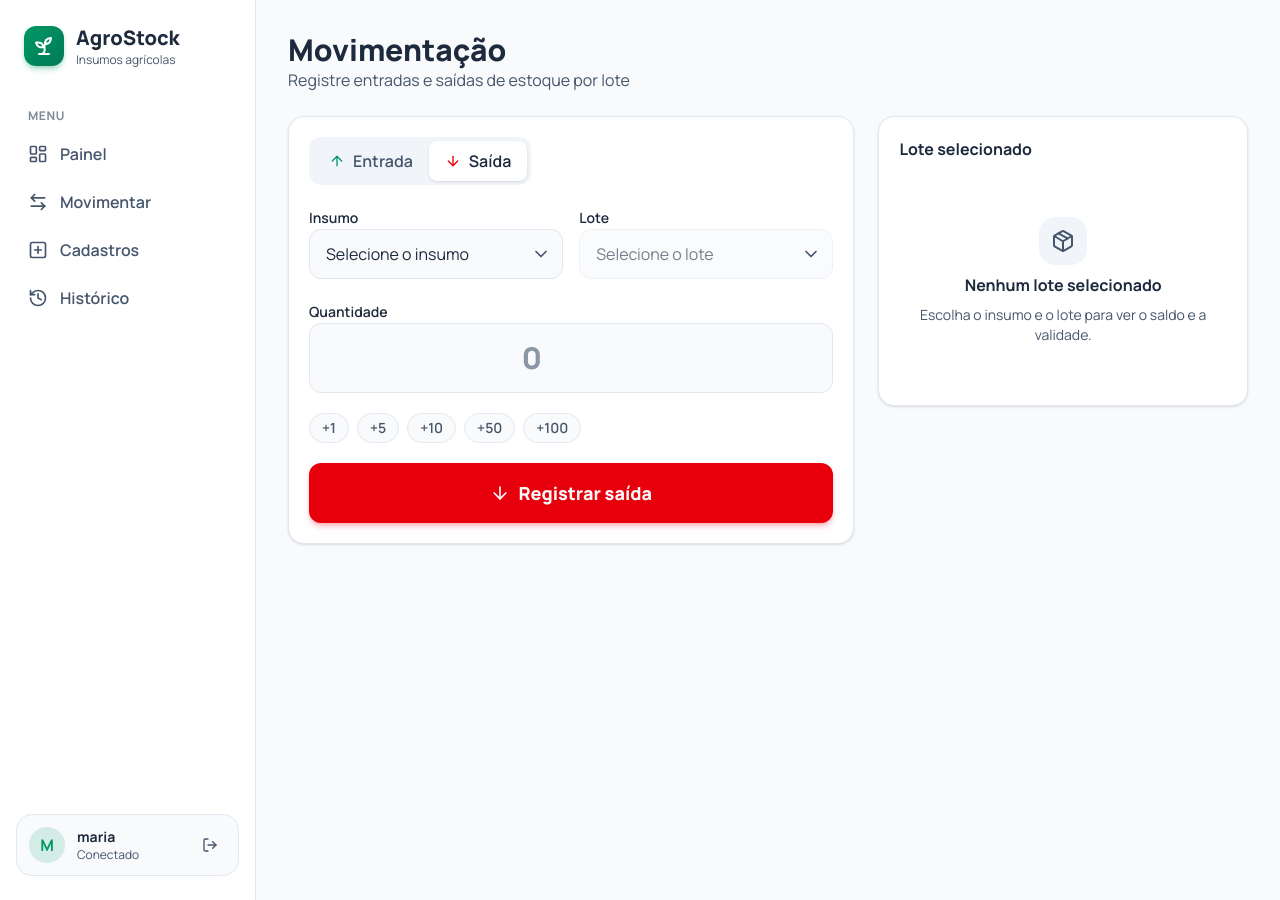
Test case: Movimentação › F22 mostra a prévia do saldo e bloqueia saída maior que o saldo
Select "Semente Milho" in the dropdown labelled "Insumo" at (436, 254), box [309,229,563,279]
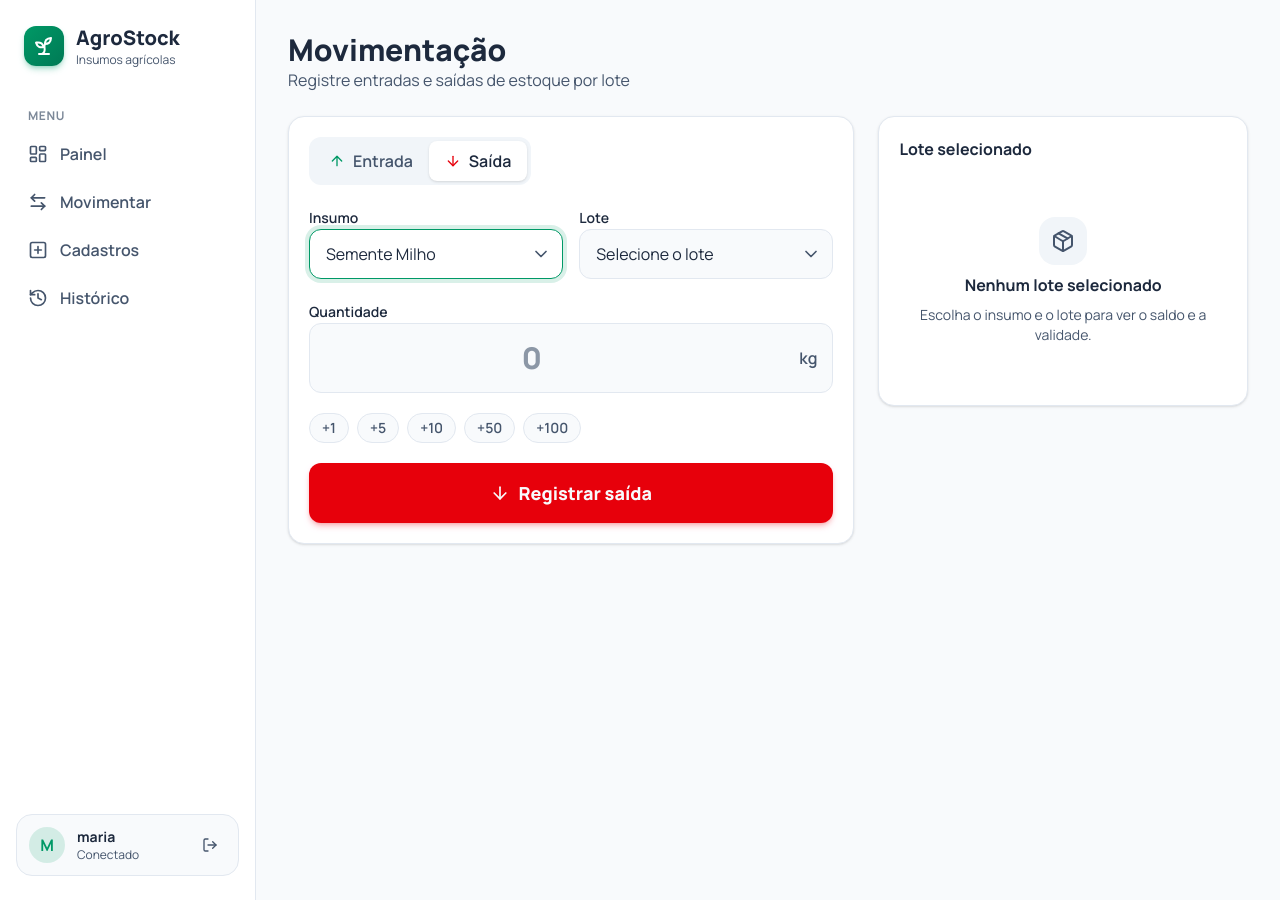
Select "L-01 · saldo 70" in the dropdown labelled "Lote" at (706, 254), box [579,229,833,279]
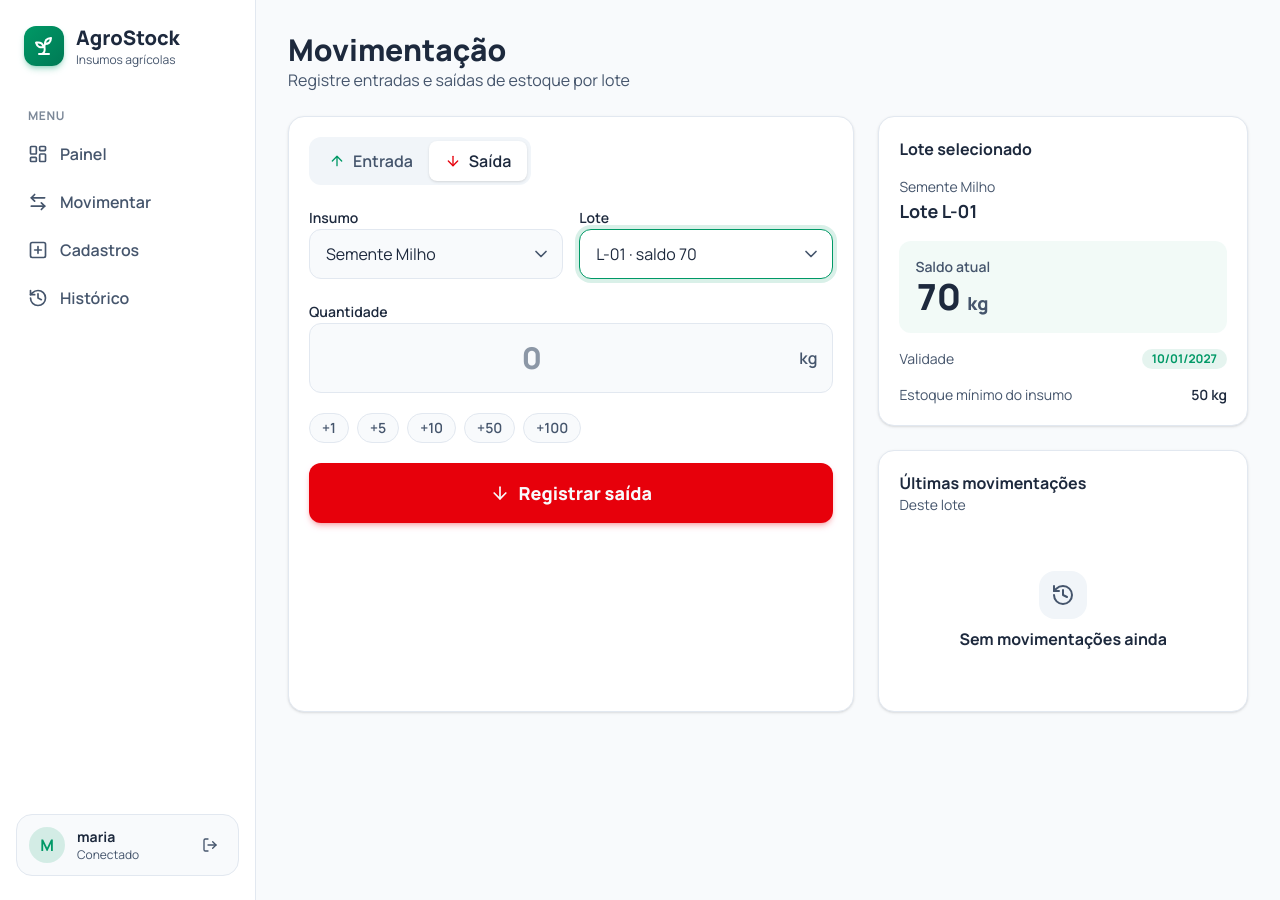
Type "100" into the number field with placeholder "0" at (571, 358), box [309,323,833,393]
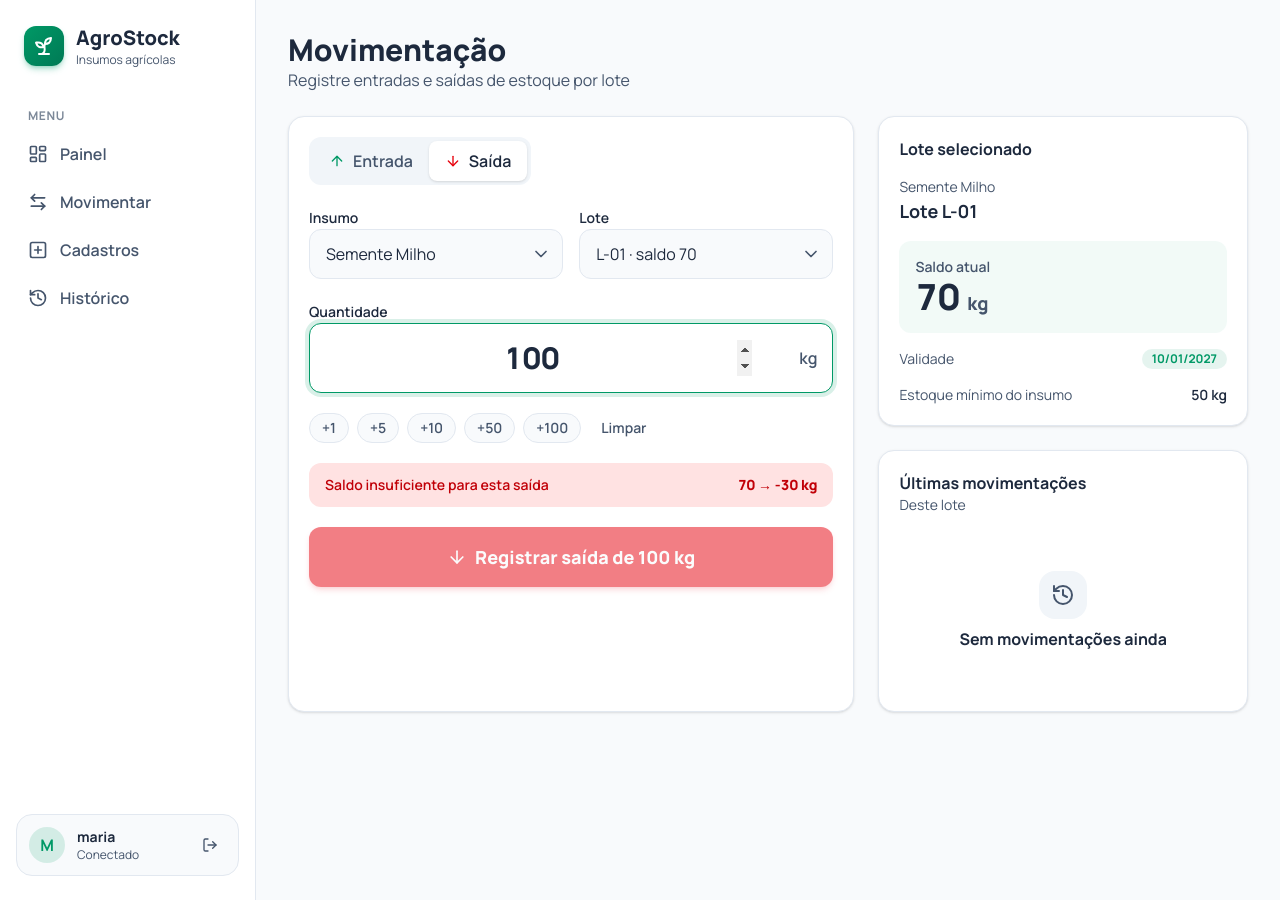
expect the text "Saldo insuficiente para esta saída" is shown: met, box [325,475,549,495]
expect the text "70 → -30 kg" is shown: met, box [738,475,817,495]
expect the button "Registrar saída de 100 kg" is disabled: met, box [309,527,833,587]
